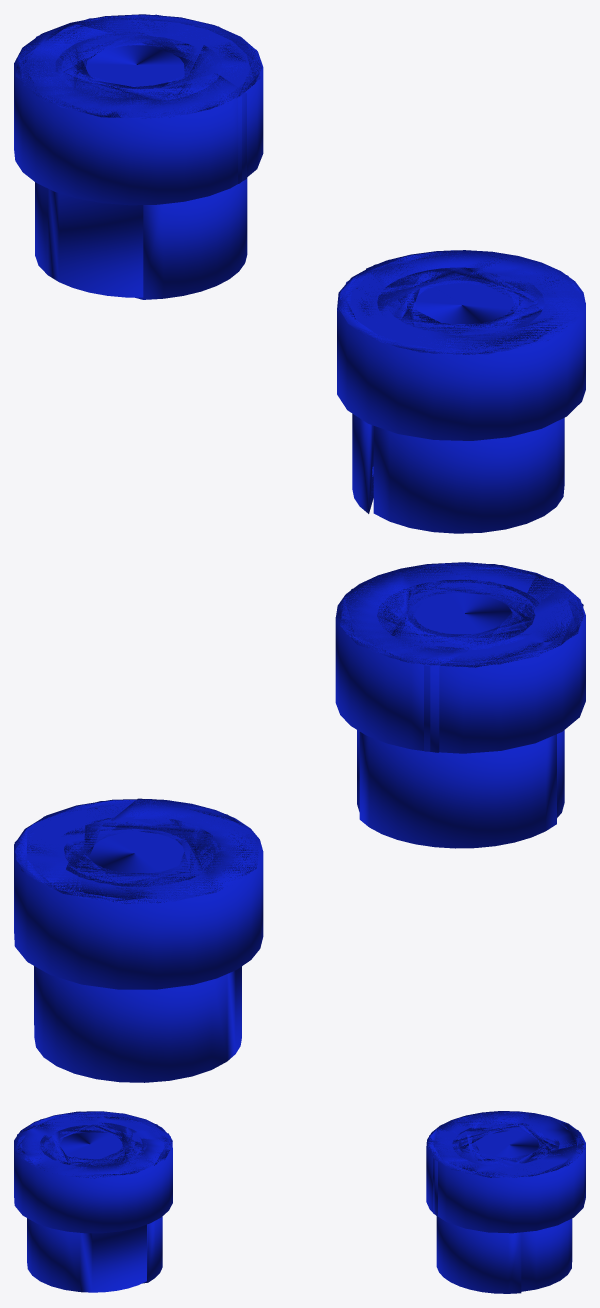
File: tuyeau_element_000036.obj
3 renders of one model, top to bottom at view 1: azimuth 30°, elevation 25°; view 2: azimuth 150°, elevation 25°; view 3: azimuth 270°, elevation 25°, orthographic. The views are drawn at different scales.
Parts seen in each view (by area): view 1: tuyeau1_Cube.014, tuyeau2_Cube.017; view 2: tuyeau2_Cube.017, tuyeau1_Cube.014; view 3: tuyeau1_Cube.014, tuyeau2_Cube.017.
Part boxes in pixels (<box>): tuyeau1_Cube.014: <box>14,14,263,299</box>; tuyeau2_Cube.017: <box>337,250,585,533</box>; tuyeau2_Cube.017: <box>335,562,585,848</box>; tuyeau1_Cube.014: <box>14,798,263,1082</box>; tuyeau1_Cube.014: <box>426,1111,585,1293</box>; tuyeau2_Cube.017: <box>14,1111,172,1292</box>.
Size of the model in its own units: 3527 by 2917 by 12620.
